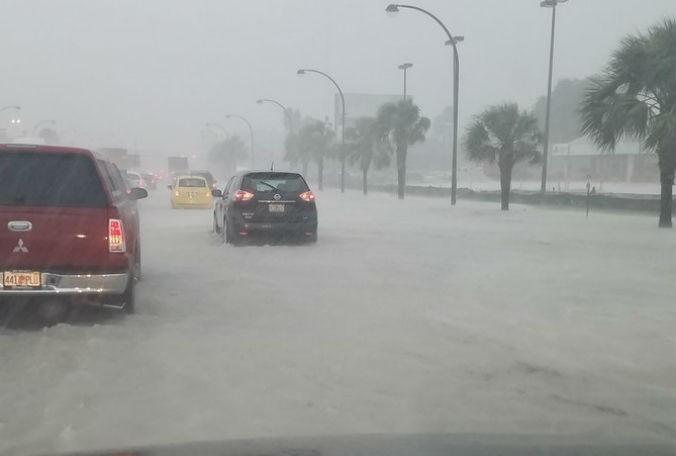bus: (166, 155, 192, 186)
car: (1, 142, 149, 326), (211, 161, 320, 248), (166, 175, 215, 211), (115, 171, 151, 203), (185, 169, 218, 195)
